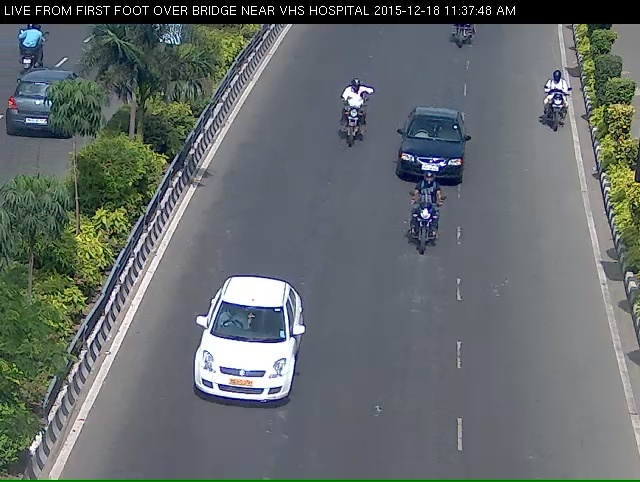Car: (182, 294, 304, 442), (387, 110, 474, 197)
Person: (400, 190, 447, 280), (329, 83, 373, 155), (537, 76, 583, 141), (442, 21, 485, 57)
